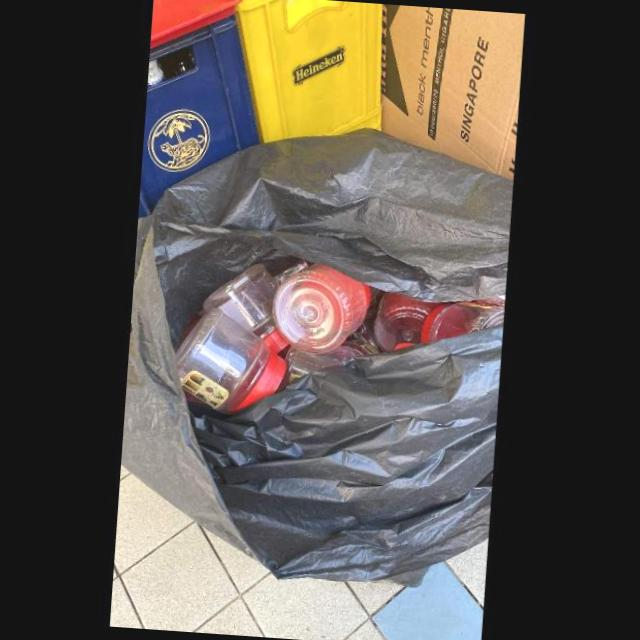hop_nhua: (174, 307, 287, 412), (272, 262, 370, 354), (203, 262, 289, 366), (372, 292, 445, 351), (420, 300, 504, 342)
